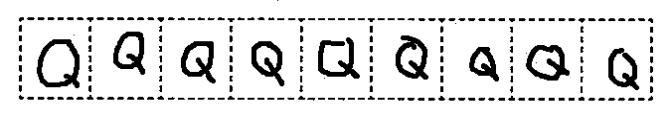Q: (32, 36, 82, 93), (314, 32, 362, 82), (244, 37, 288, 88), (522, 41, 575, 82), (391, 31, 432, 82), (176, 37, 217, 86), (110, 27, 151, 75), (601, 46, 642, 92), (462, 43, 503, 86)
